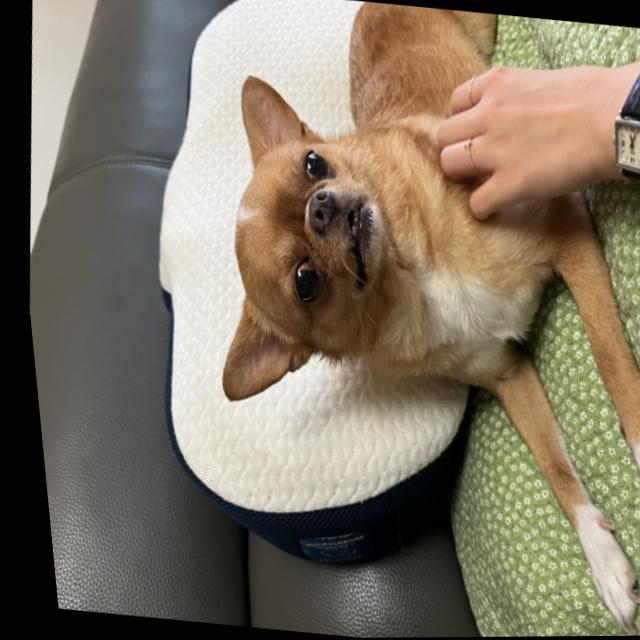dog-chihuahua: (185, 70, 423, 419)
